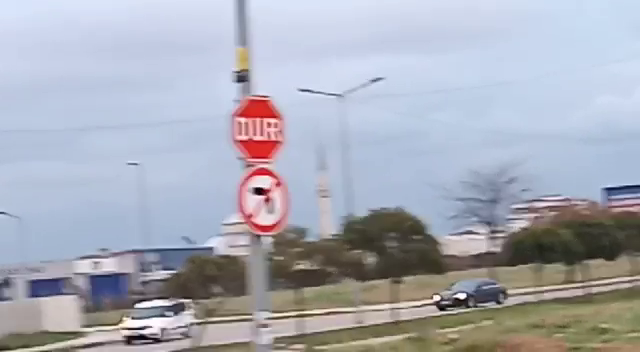no_left: (235, 165, 293, 238)
stop: (228, 95, 288, 166)
